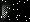person: (4, 6, 14, 21)
